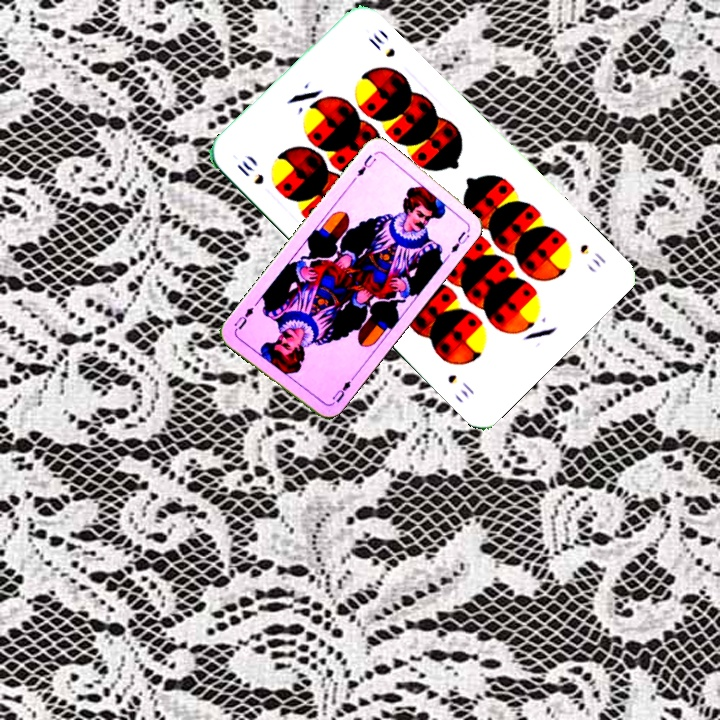EU: (328, 373, 356, 405), (353, 150, 379, 179)
S10: (232, 156, 267, 187), (576, 240, 609, 270)
